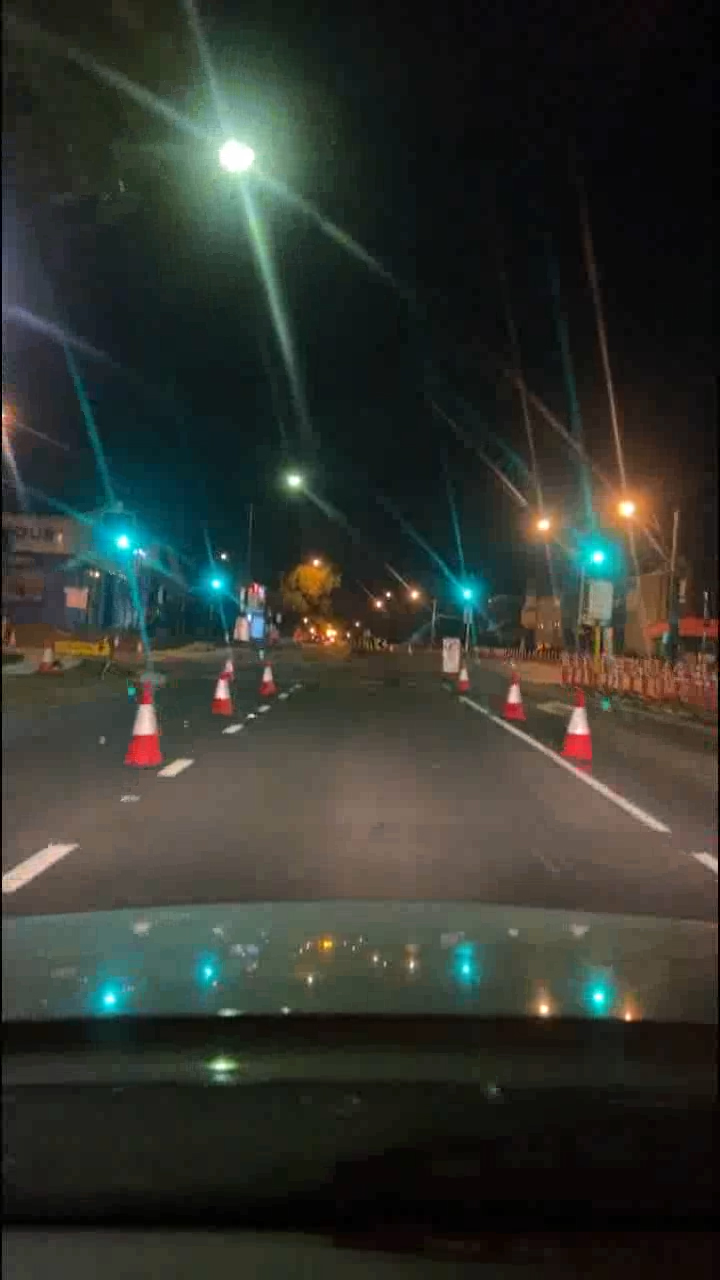road cone: (125, 685, 164, 767), (560, 689, 599, 765), (497, 666, 531, 734), (208, 662, 235, 727), (451, 649, 477, 705), (254, 648, 277, 707)
road works sign board: (56, 630, 104, 659)
